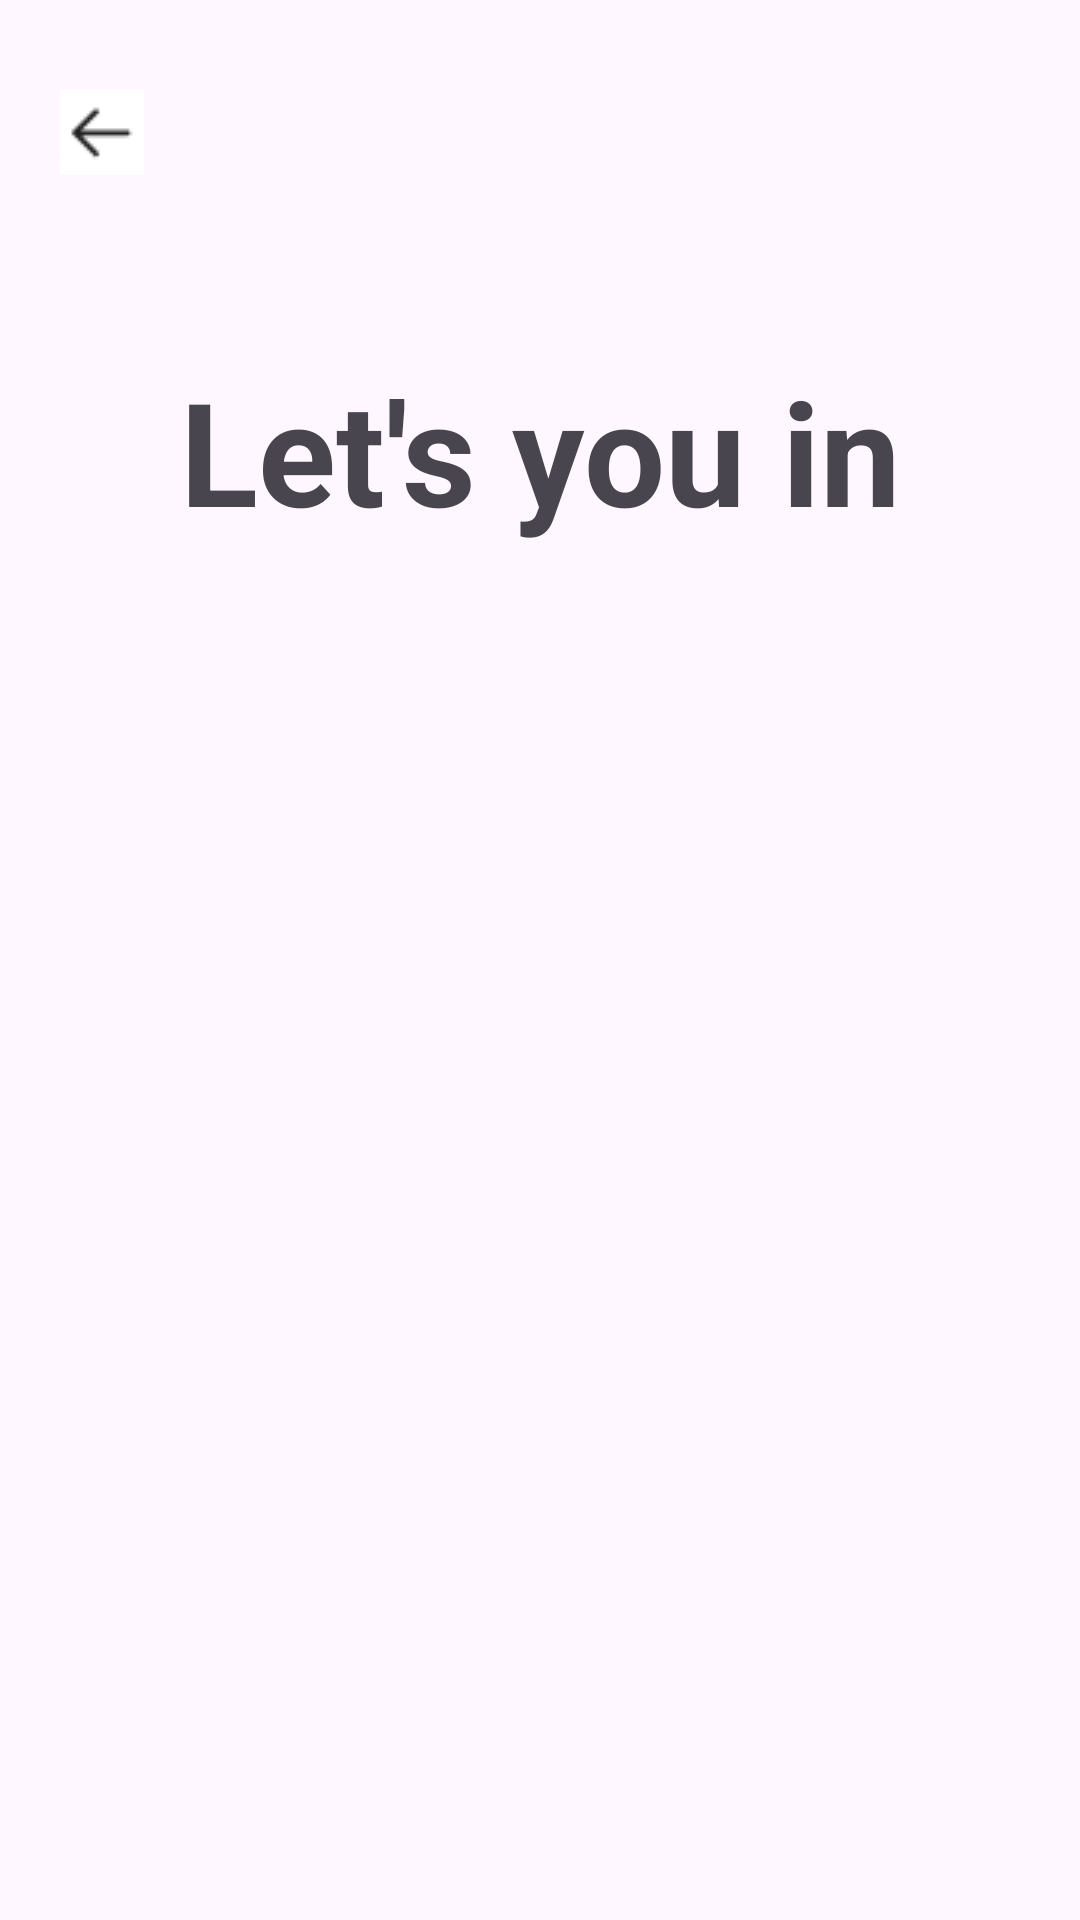

Locate icon controls on the screen. Image size 1080px x 1920px, boxes as box(x1, y1, x2, y2).
arrow left: box(71, 107, 132, 158)
